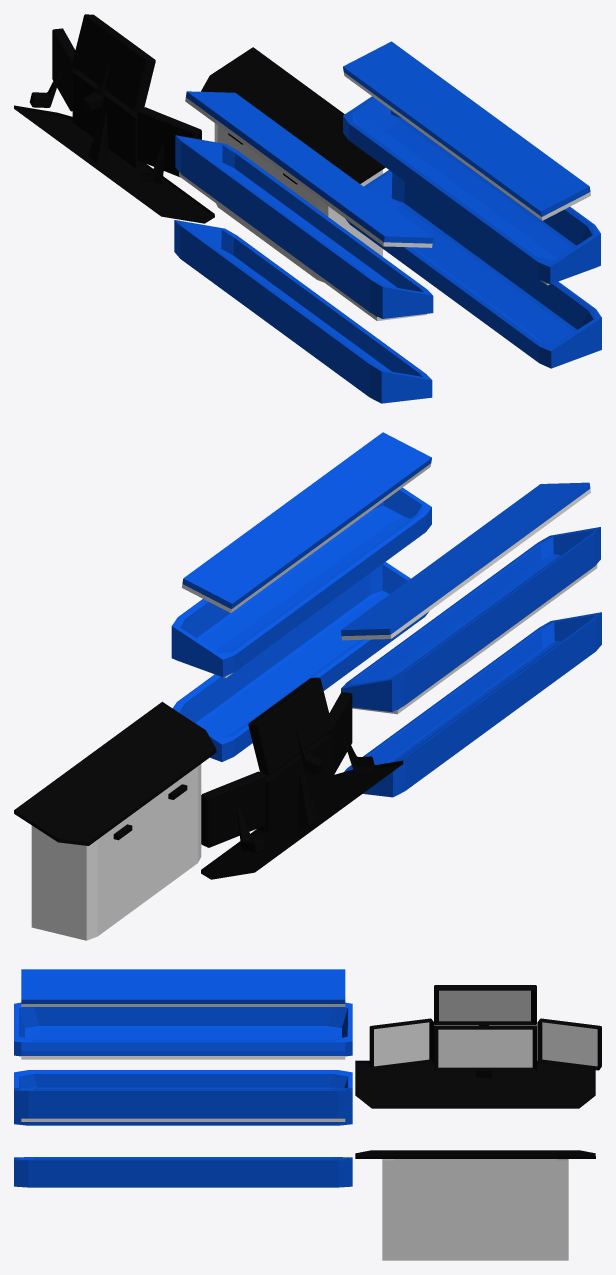
File: botanica.fbx
The picture shows the model from 3 angles, top to bottom: view 1: azimuth 30°, elevation 25°; view 2: azimuth 150°, elevation 25°; view 3: azimuth 270°, elevation 25°; orthographic projection. The views are drawn at different scales.
Parts seen in each view (by area): view 1: CassettoniPiante, LuciLed, Piano, schermo, PianoPC, LuciLed.001, Schermo.001, Schermo.002, Cassettone, Schermo; view 2: CassettoniPiante, LuciLed, Cassettone, Piano, schermo, PianoPC, LuciLed.001, Schermo, Schermo.001, Schermo.002; view 3: CassettoniPiante, Cassettone, LuciLed, PianoPC, Schermo.001, schermo, Schermo.002, Schermo, Piano, LuciLed.001.
Boxes of the visible parts, left/top/right/bottom form: CassettoniPiante: left=174, top=96, right=601, bottom=403; LuciLed: left=185, top=41, right=590, bottom=247; Piano: left=201, top=47, right=385, bottom=183; schermo: left=72, top=14, right=155, bottom=111; PianoPC: left=14, top=105, right=214, bottom=223; LuciLed.001: left=179, top=125, right=596, bottom=320; Schermo.001: left=72, top=70, right=146, bottom=168; Schermo.002: left=137, top=107, right=201, bottom=188; Cassettone: left=214, top=123, right=382, bottom=282; Schermo: left=29, top=28, right=77, bottom=111; CassettoniPiante: left=171, top=487, right=601, bottom=797; LuciLed: left=181, top=432, right=590, bottom=640; Cassettone: left=31, top=764, right=201, bottom=940; Piano: left=14, top=701, right=216, bottom=845; schermo: left=248, top=677, right=332, bottom=775; PianoPC: left=201, top=760, right=403, bottom=879; LuciLed.001: left=176, top=517, right=597, bottom=714; Schermo: left=201, top=771, right=266, bottom=853; Schermo.001: left=257, top=734, right=331, bottom=832; Schermo.002: left=326, top=692, right=374, bottom=775; CassettoniPiante: left=14, top=1002, right=352, bottom=1187; Cassettone: left=382, top=1159, right=568, bottom=1260; LuciLed: left=21, top=969, right=345, bottom=1059; PianoPC: left=355, top=1060, right=595, bottom=1108; Schermo.001: left=434, top=1025, right=536, bottom=1077; schermo: left=434, top=985, right=536, bottom=1025; Schermo.002: left=369, top=1018, right=434, bottom=1070; Schermo: left=537, top=1018, right=601, bottom=1070; Piano: left=355, top=1150, right=595, bottom=1158; LuciLed.001: left=21, top=1117, right=345, bottom=1121.
Size of the model in its own units: 193 by 193 by 503.
